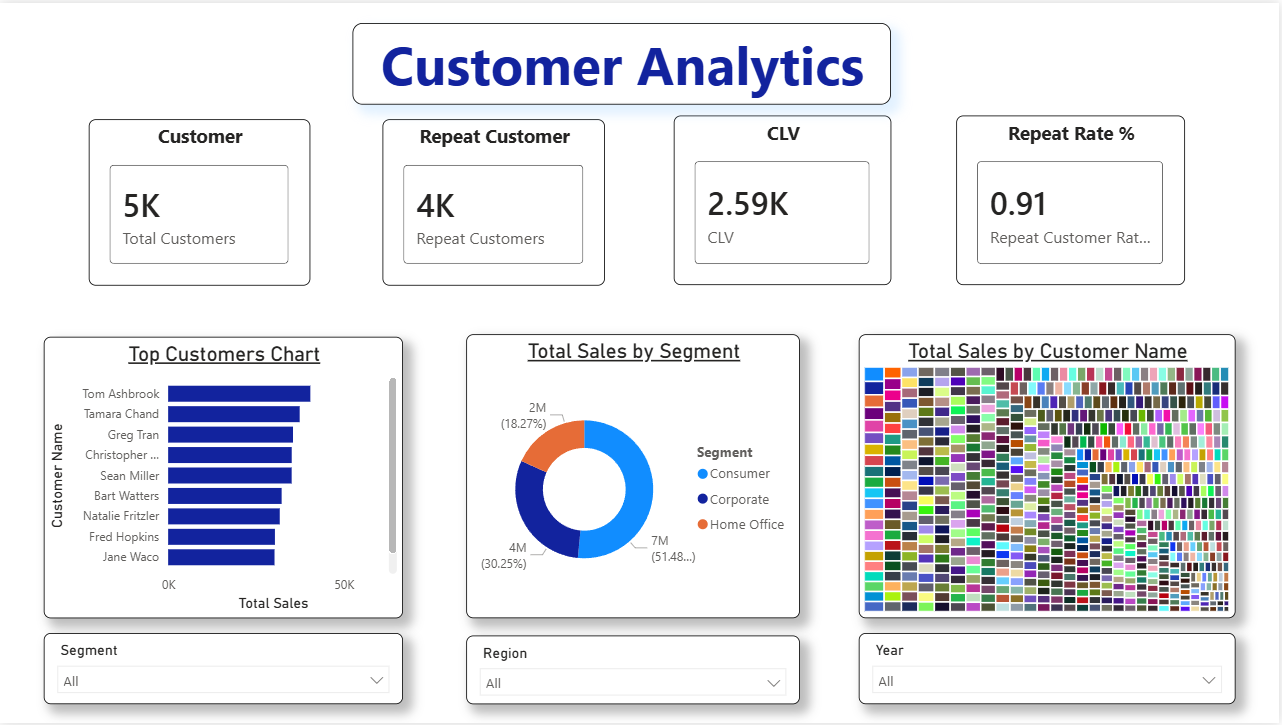

This screenshot's page, from the dashboard's own definition file:
{"tool":"powerbi","page":{"name":"CUSTOMER ANALYTICS","canvas":[1280,720],"ordinal":2},"visuals":[{"type":"cardVisual","title":"Customer","fields":{"Data":["superstore.Total Customers"]},"box":[89.3,116.2,221.3,166.3],"z":0},{"type":"cardVisual","title":"Repeat Customer","fields":{"Data":["superstore.Repeat Customers"]},"box":[382.7,116.2,222.6,166.3],"z":1000},{"type":"cardVisual","title":"CLV","fields":{"Data":["superstore.CLV"]},"box":[673.8,112.5,217.7,170],"z":2000},{"type":"clusteredBarChart","title":"Top Customers Chart","fields":{"Category":["superstore.Customer Name"],"Y":["superstore.Total Sales"]},"box":[44,333.8,359.5,281.3],"z":3000},{"type":"donutChart","fields":{"Y":["superstore.Total Sales"],"Series":["superstore.Segment"]},"box":[465.9,331.4,333.8,283.7],"z":4000},{"type":"treemap","fields":{"Group":["superstore.Customer Name"],"Values":["superstore.Total Sales"]},"box":[858.4,331.4,376.6,283.7],"z":5000},{"type":"cardVisual","title":"Repeat Rate %","fields":{"Data":["superstore.Repeat Customer Rate %"]},"box":[956.3,112.5,228.7,170],"z":6000},{"type":"slicer","fields":{"Values":["superstore.Segment"]},"box":[44,629.8,359.5,70.9],"z":7000},{"type":"slicer","fields":{"Values":["superstore.Region"]},"box":[465.9,632.2,333.8,68.5],"z":8000},{"type":"slicer","fields":{"Values":["Calender.Year"]},"box":[858.4,629.8,376.6,70.9],"z":9000},{"type":"textbox","title":"Customer Analytics","box":[352.5,20,538.8,81.2],"z":10000}]}

Visuals, with their boxes in screenshot pixels (x1, y1, x2, y2), scaled from the page's 1280x720 canvas onto the 1282x725 screenshot:
"Customer" cardVisual: <region>89, 117, 311, 284</region>
"Repeat Customer" cardVisual: <region>383, 117, 606, 284</region>
"CLV" cardVisual: <region>675, 113, 893, 284</region>
"Top Customers Chart" clusteredBarChart: <region>44, 336, 404, 619</region>
donutChart - superstore.Total Sales x superstore.Segment: <region>467, 334, 801, 619</region>
treemap - superstore.Customer Name x superstore.Total Sales: <region>860, 334, 1237, 619</region>
"Repeat Rate %" cardVisual: <region>958, 113, 1187, 284</region>
slicer - superstore.Segment: <region>44, 634, 404, 706</region>
slicer - superstore.Region: <region>467, 637, 801, 706</region>
slicer - Calender.Year: <region>860, 634, 1237, 706</region>
"Customer Analytics" textbox: <region>353, 20, 893, 102</region>
